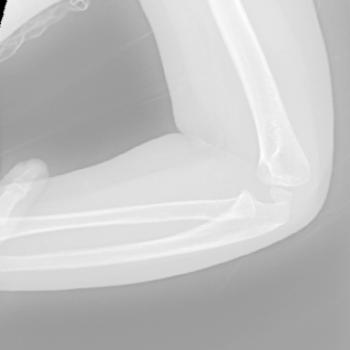Fracture: (235, 162, 289, 225)
